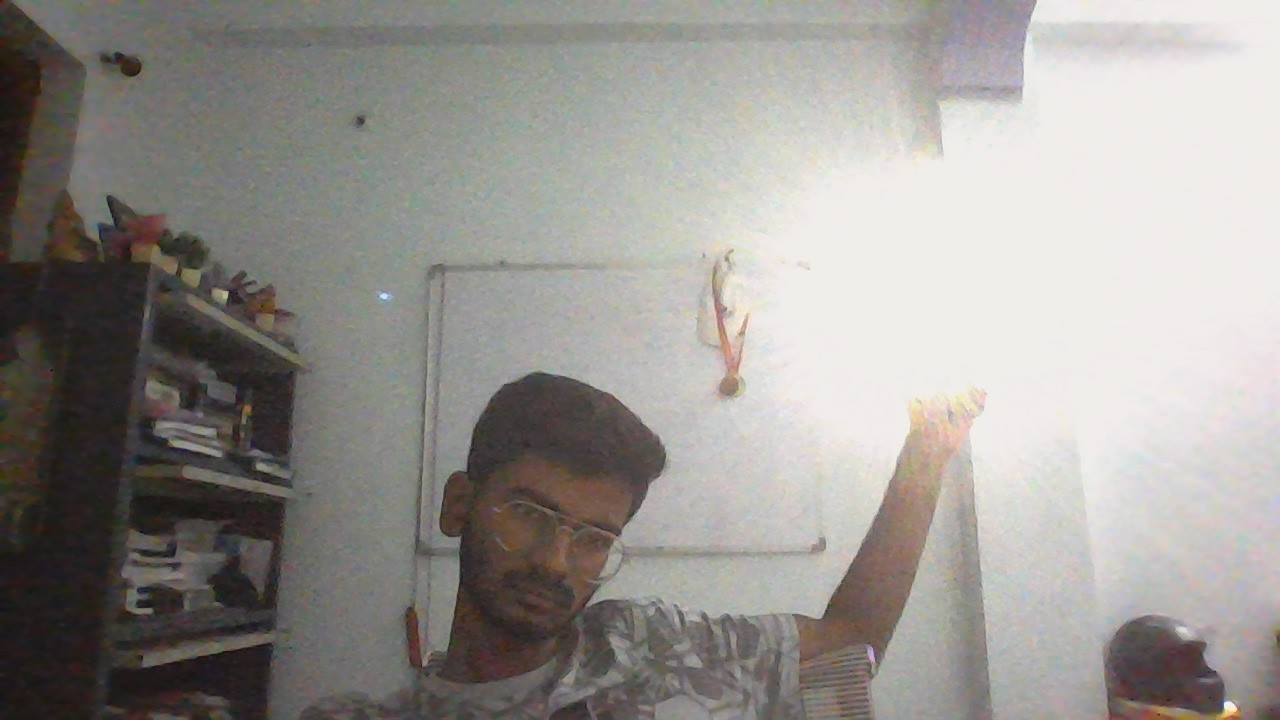Glare: (771, 139, 1153, 420)
